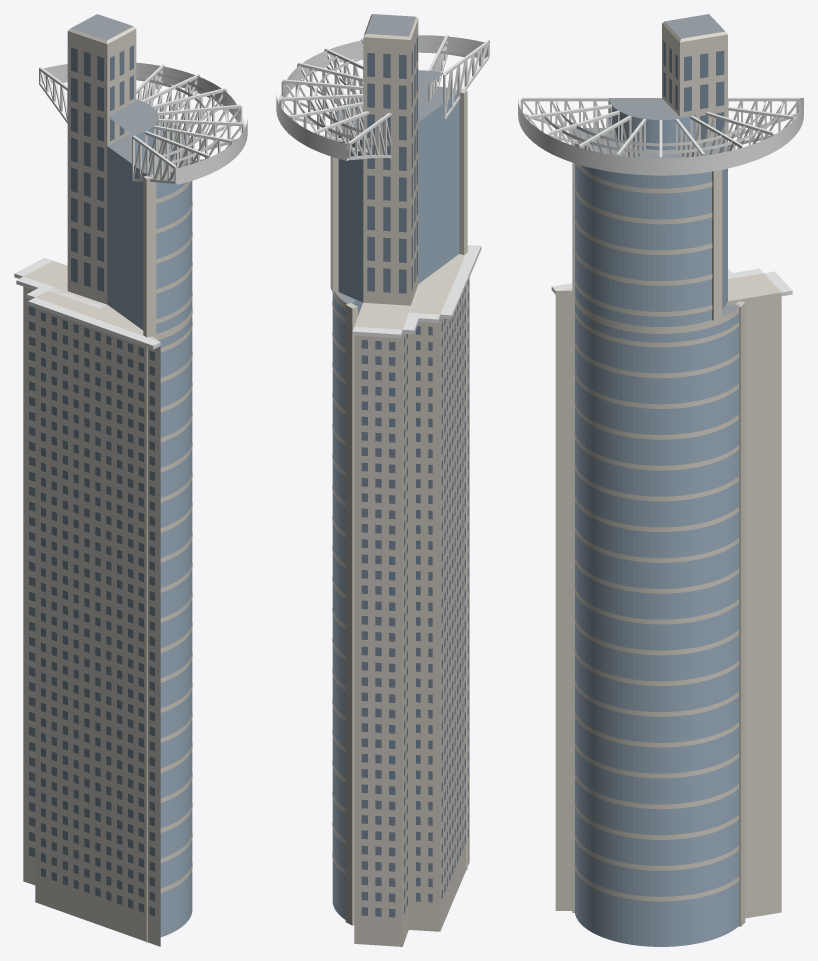
The model's file is frankfurt-westend-1.detail.glb.
The picture shows the model from 3 angles, left to right: view 1: azimuth 30°, elevation 25°; view 2: azimuth 150°, elevation 25°; view 3: azimuth 270°, elevation 25°; orthographic projection. The views are drawn at different scales.
Visible parts, largest first — view 1: Westendstrasse 1; view 2: Westendstrasse 1; view 3: Westendstrasse 1.
Boxes of the visible parts, x1,y1,x2,y2 form: Westendstrasse 1: [14, 14, 247, 946]; Westendstrasse 1: [276, 14, 489, 946]; Westendstrasse 1: [518, 14, 803, 946].
Size of the model in its own units: 44.45 by 208 by 60.6.
